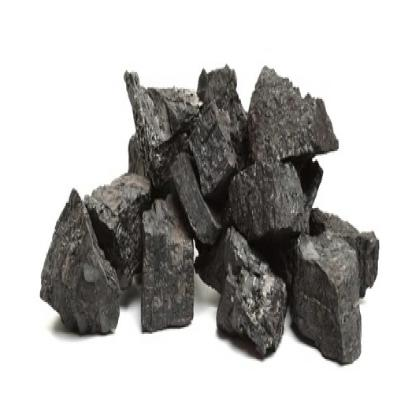Sedimentary_coal: (39, 181, 124, 357), (242, 55, 350, 168), (294, 223, 366, 371), (134, 205, 202, 352), (220, 219, 288, 360)
